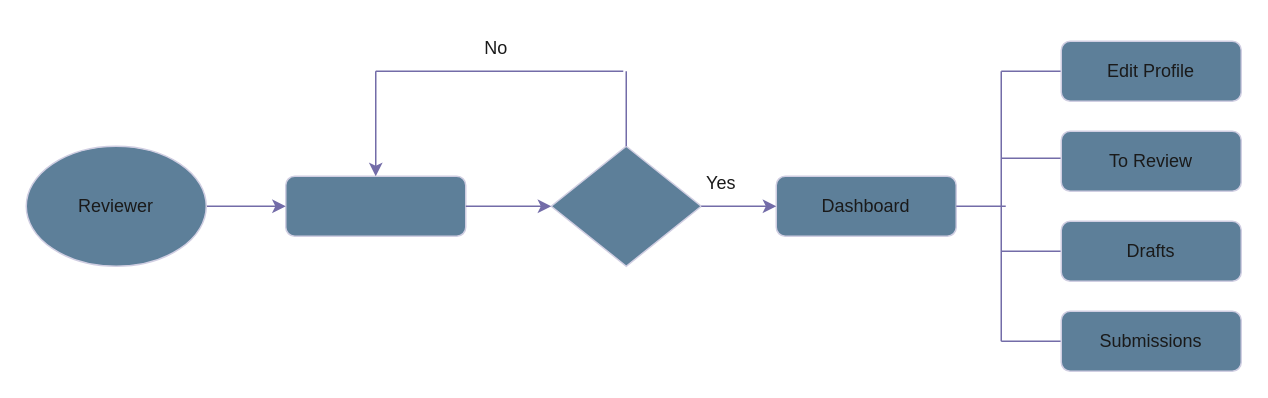
The diagram is 1268 pixels wide and 398 high, and some of its shapes have lost their labels. The shapes that lost their labels are listed below. From the top down, each one's box as (x1, y1, x2, y2) in pixels, then its label:
(284, 175, 466, 236): Login
(550, 145, 701, 266): Valid Credentials?
